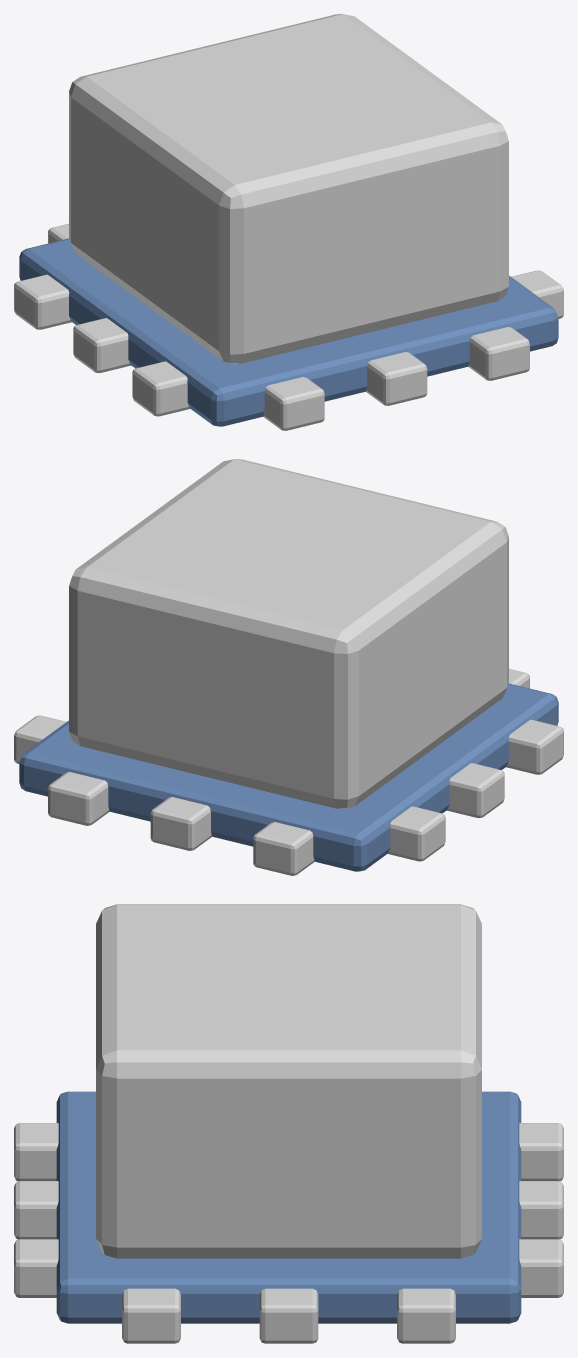
File: cache.glb
3 renders of one model, top to bottom at view 1: azimuth 30°, elevation 25°; view 2: azimuth 150°, elevation 25°; view 3: azimuth 270°, elevation 25°, orthographic. The views are drawn at different scales.
Parts seen in each view (by area): view 1: package, substrate, pin.z.1.0, pin.z.1.1, pin.z.1.2, pin.x.-1.2, pin.x.-1.1, pin.x.-1.0, pin.x.1.2; view 2: package, substrate, pin.z.-1.0, pin.z.-1.1, pin.z.-1.2, pin.x.-1.0, pin.x.-1.1, pin.x.-1.2, pin.x.1.0; view 3: package, substrate, pin.x.1.1, pin.x.1.0, pin.x.1.2, pin.z.1.1, pin.z.-1.1, pin.z.1.2, pin.z.-1.2, pin.z.1.0, pin.z.-1.0.
Boxes of the visible parts, left/top/right/bottom form: package: left=69, top=14, right=508, bottom=363; substrate: left=19, top=238, right=558, bottom=426; pin.z.1.0: left=263, top=377, right=324, bottom=430; pin.z.1.1: left=366, top=352, right=427, bottom=405; pin.z.1.2: left=468, top=327, right=529, bottom=380; pin.x.-1.2: left=132, top=361, right=190, bottom=416; pin.x.-1.1: left=73, top=318, right=130, bottom=373; pin.x.-1.0: left=14, top=274, right=71, bottom=329; pin.x.1.2: left=511, top=270, right=563, bottom=318; package: left=69, top=459, right=508, bottom=808; substrate: left=19, top=683, right=558, bottom=871; pin.z.-1.0: left=253, top=822, right=314, bottom=875; pin.z.-1.1: left=150, top=797, right=211, bottom=850; pin.z.-1.2: left=48, top=772, right=109, bottom=825; pin.x.-1.0: left=387, top=806, right=445, bottom=861; pin.x.-1.1: left=447, top=763, right=504, bottom=818; pin.x.-1.2: left=506, top=719, right=563, bottom=774; pin.x.1.0: left=14, top=715, right=66, bottom=763; package: left=96, top=904, right=481, bottom=1258; substrate: left=56, top=1091, right=521, bottom=1323; pin.x.1.1: left=259, top=1288, right=318, bottom=1343; pin.x.1.0: left=397, top=1288, right=455, bottom=1343; pin.x.1.2: left=122, top=1288, right=180, bottom=1343; pin.z.1.1: left=14, top=1181, right=58, bottom=1239; pin.z.-1.1: left=519, top=1181, right=563, bottom=1239; pin.z.1.2: left=14, top=1239, right=58, bottom=1297; pin.z.-1.2: left=519, top=1239, right=563, bottom=1297; pin.z.1.0: left=14, top=1123, right=58, bottom=1181; pin.z.-1.0: left=519, top=1123, right=563, bottom=1181.
Size of the model in its own units: 1.68 by 0.85 by 1.68.
